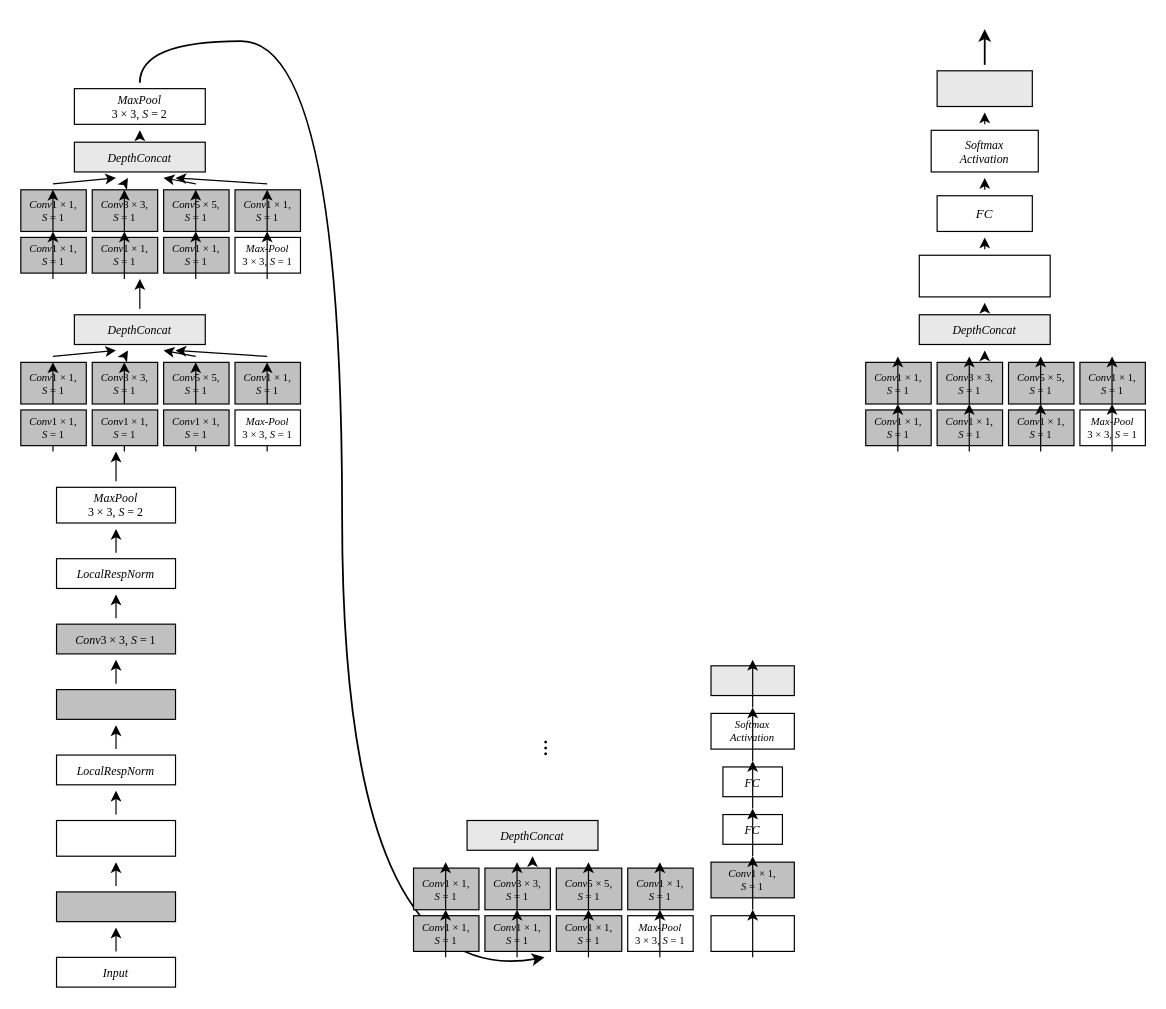
Image size: 1166x1009. Some labels were removed from this diagram. The centre of each missing label's shape, as x and y in pixels:
Average-Pool 5 × 5, V = 3: pixel 752 933
Average-Pool 7 × 7, V = 1: pixel 984 275
Conv 1 × 1, V = 1: pixel 115 703
Conv 7 × 7, S = 2: pixel 115 906
Max-Pool 3 × 3, S = 2: pixel 115 837
Softmax0: pixel 752 680
Softmax1: pixel 984 88
